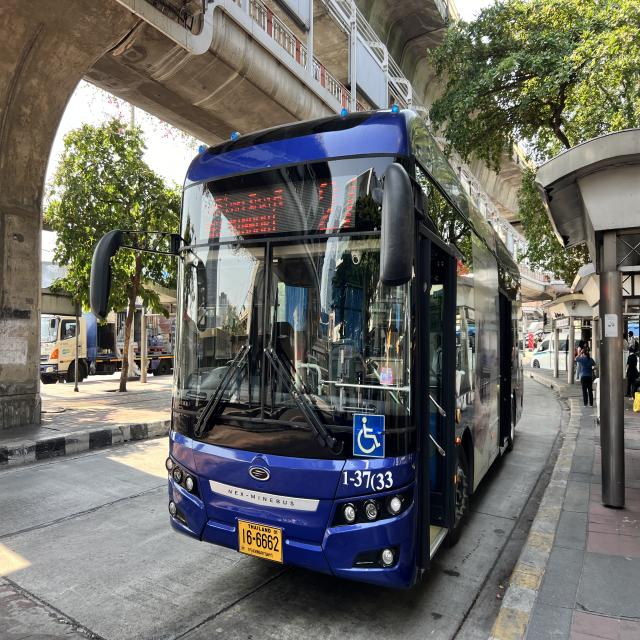Bus-Line-Number: (312, 172, 364, 230)
Destination-Sign-Normal: (198, 186, 288, 239)
TSB-Bus: (166, 109, 522, 593)
